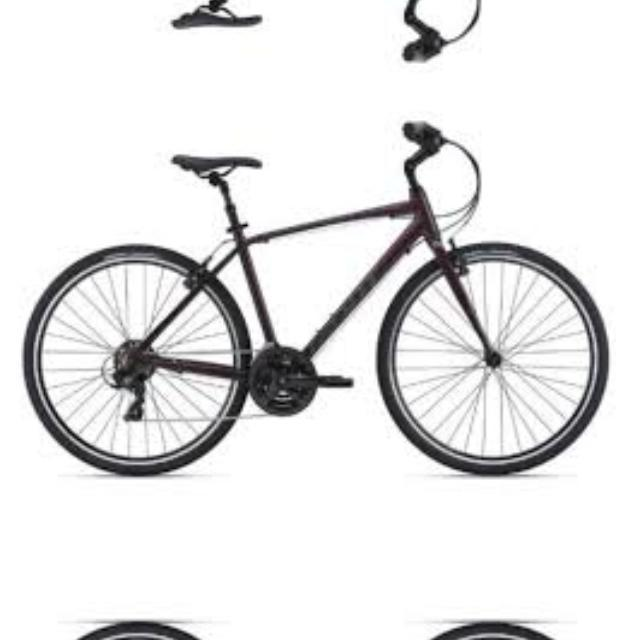obstacle: (18, 118, 618, 486), (17, 0, 618, 64), (17, 610, 618, 640)
